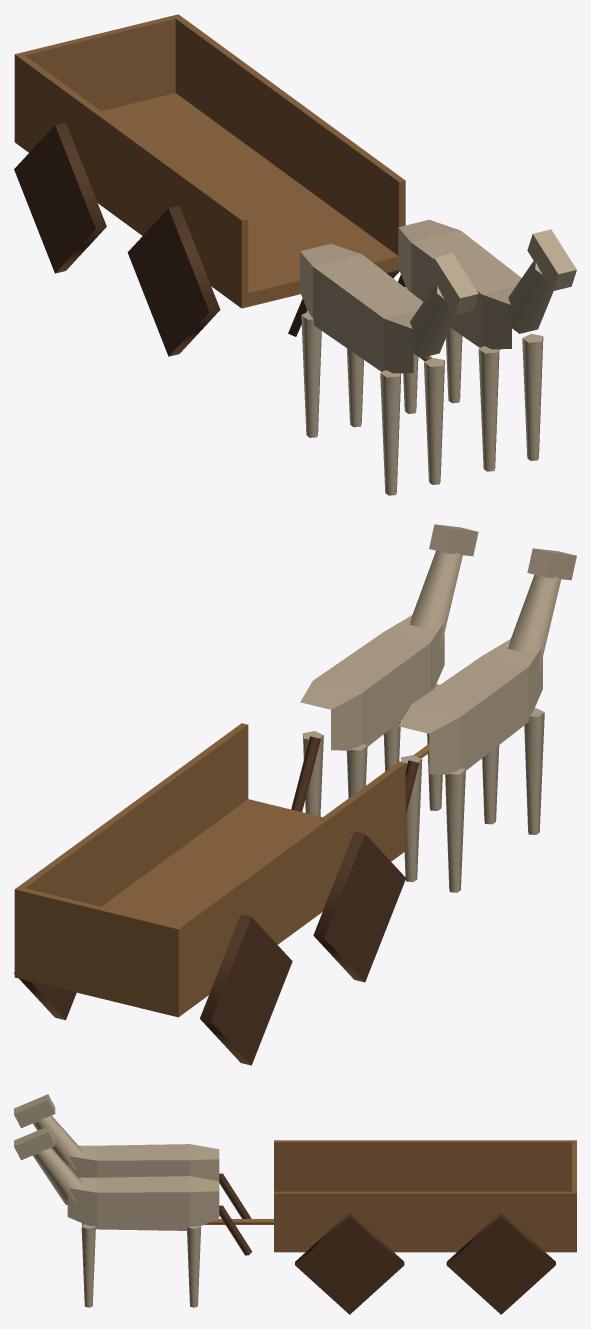
Rendered from veh_ground_wagon_a02_lod2.glb.
3 views of the same model, one above another, from view 1: azimuth 30°, elevation 25°; view 2: azimuth 150°, elevation 25°; view 3: azimuth 270°, elevation 25° (orthographic). The views are drawn at different scales.
Parts seen in each view (by area): view 1: body, animal_0, animal_1, wheel_0, wheel_2; view 2: body, animal_0, animal_1, wheel_2, wheel_0, wheel_1; view 3: body, animal_1, animal_0, wheel_3, wheel_1.
Part boxes in pixels (x1=…): body: x1=14, y1=14, x2=431, y2=361; animal_0: x1=288, y1=244, x2=478, y2=495; animal_1: x1=398, y1=219, x2=576, y2=471; wheel_0: x1=14, y1=122, x2=106, y2=273; wheel_2: x1=127, y1=205, x2=220, y2=356; body: x1=14, y1=723, x2=429, y2=1017; animal_0: x1=399, y1=548, x2=576, y2=892; animal_1: x1=291, y1=524, x2=478, y2=816; wheel_2: x1=313, y1=831, x2=405, y2=982; wheel_0: x1=200, y1=914, x2=292, y2=1065; wheel_1: x1=14, y1=972, x2=76, y2=1020; body: x1=204, y1=1140, x2=576, y2=1252; animal_1: x1=14, y1=1126, x2=252, y2=1307; animal_0: x1=14, y1=1094, x2=251, y2=1218; wheel_3: x1=295, y1=1212, x2=404, y2=1314; wheel_1: x1=446, y1=1212, x2=555, y2=1314.
Size of the model in its own units: 1.8 by 2.23 by 6.69.
